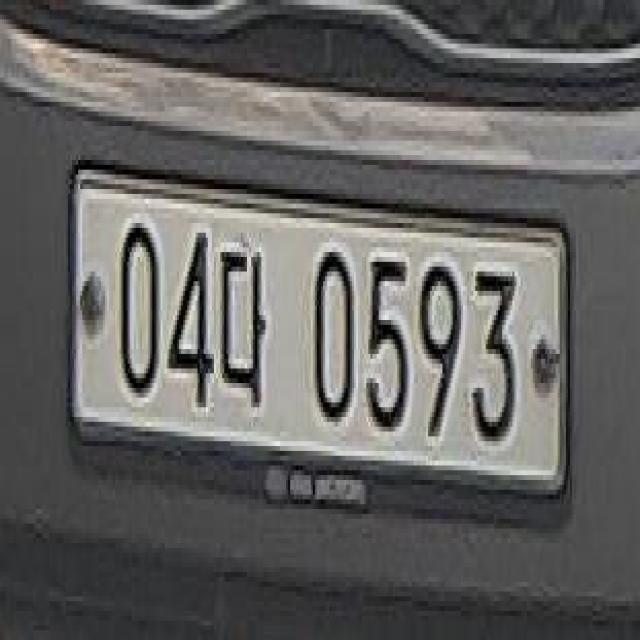illegal_plate: (71, 159, 576, 537)
